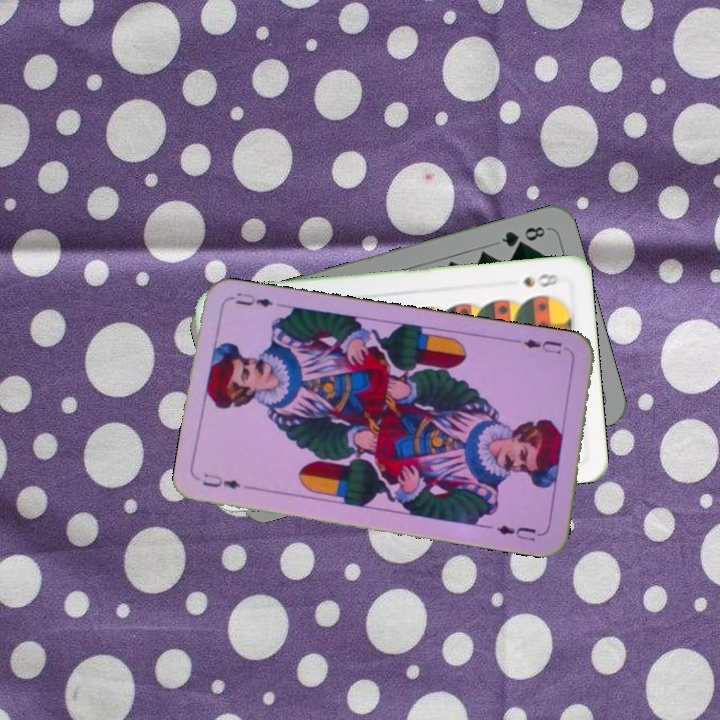EU: (519, 335, 571, 357), (198, 469, 243, 492)
G8: (497, 222, 548, 250)
S8: (519, 270, 561, 290)
